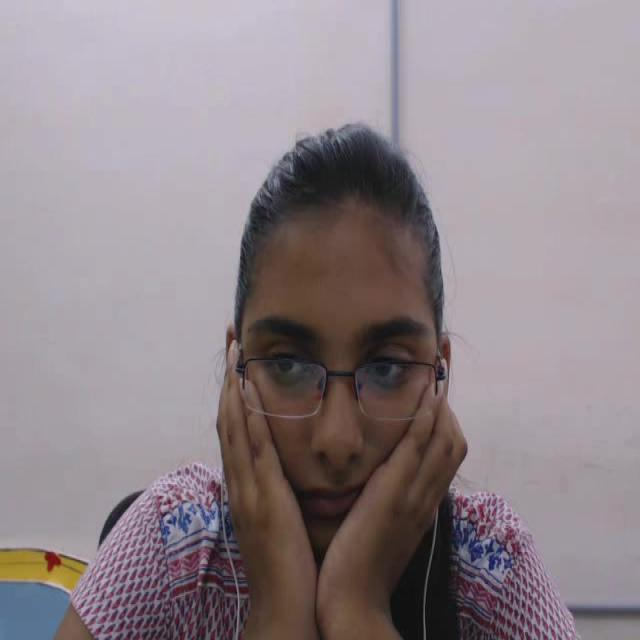Bored: (212, 98, 478, 594)
